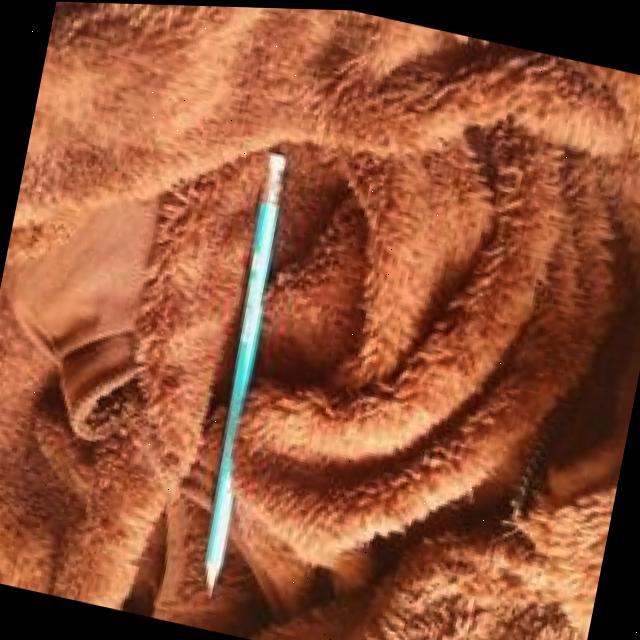pencil: (180, 146, 300, 597)
